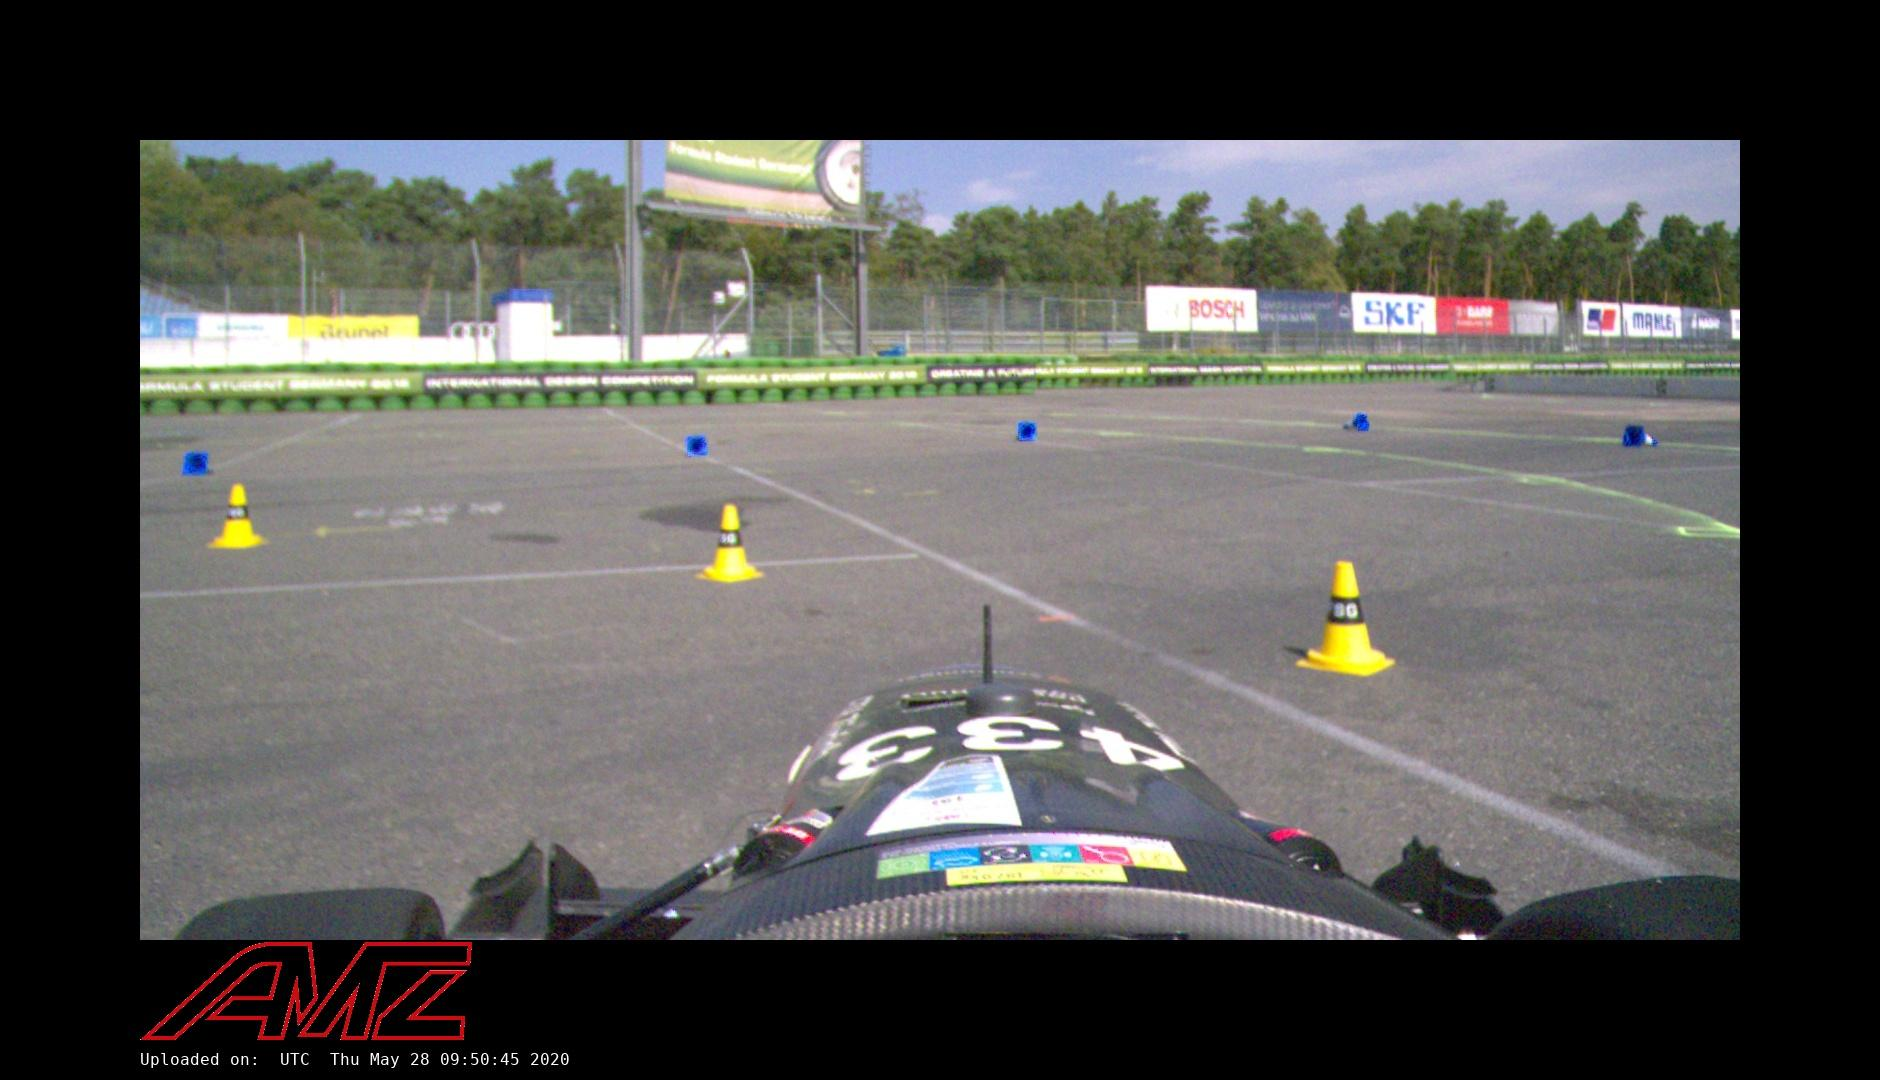blue_cone: (181, 451, 216, 475), (1620, 425, 1658, 447), (1342, 412, 1370, 431), (686, 435, 709, 457), (1017, 420, 1038, 441)
yellow_cone: (1295, 559, 1396, 676), (693, 505, 764, 583), (207, 484, 271, 548)
